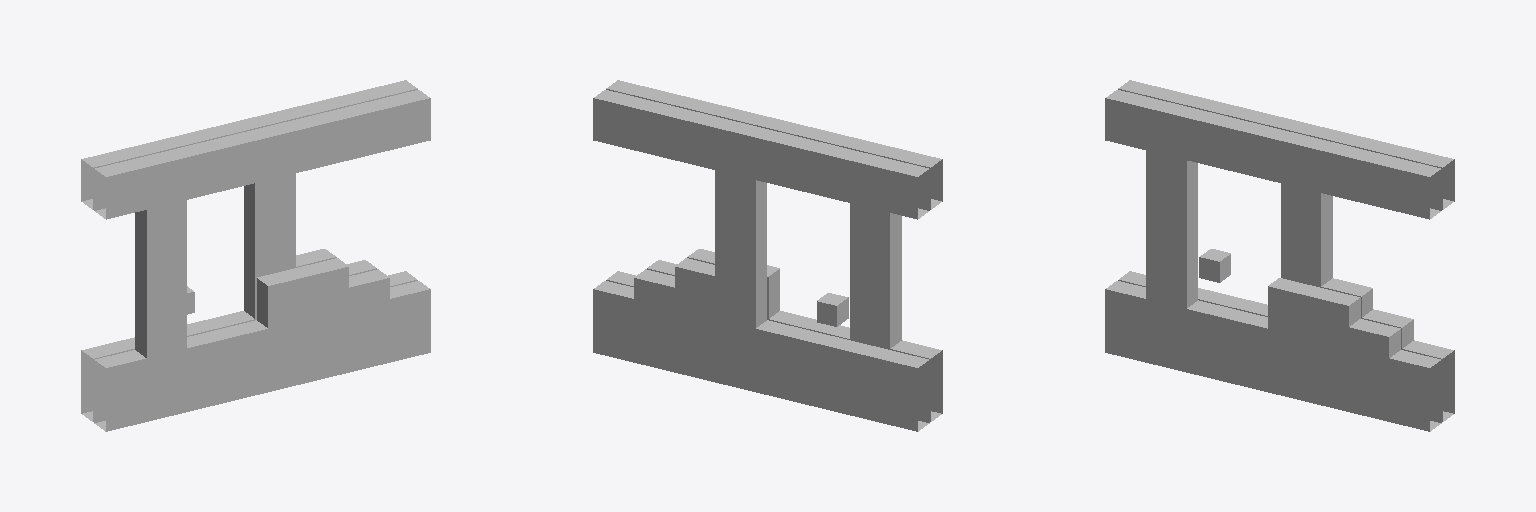
File: Colby2NoMat.obj
3 renders of one model, left to right at view 1: azimuth 30°, elevation 25°; view 2: azimuth 150°, elevation 25°; view 3: azimuth 330°, elevation 25°, orthographic.
Visible parts, largest first — view 1: Plane, Plane.001_Plane.002; view 2: Plane.001_Plane.002, Plane; view 3: Plane, Plane.001_Plane.002.
Boxes of the visible parts, <box> form: Plane: <box>94,90,430,431</box>; Plane.001_Plane.002: <box>81,80,417,421</box>; Plane.001_Plane.002: <box>593,90,929,431</box>; Plane: <box>606,80,942,421</box>; Plane: <box>1105,90,1441,431</box>; Plane.001_Plane.002: <box>1118,80,1454,421</box>.
Size of the model in its own units: 16 by 12 by 2.1.